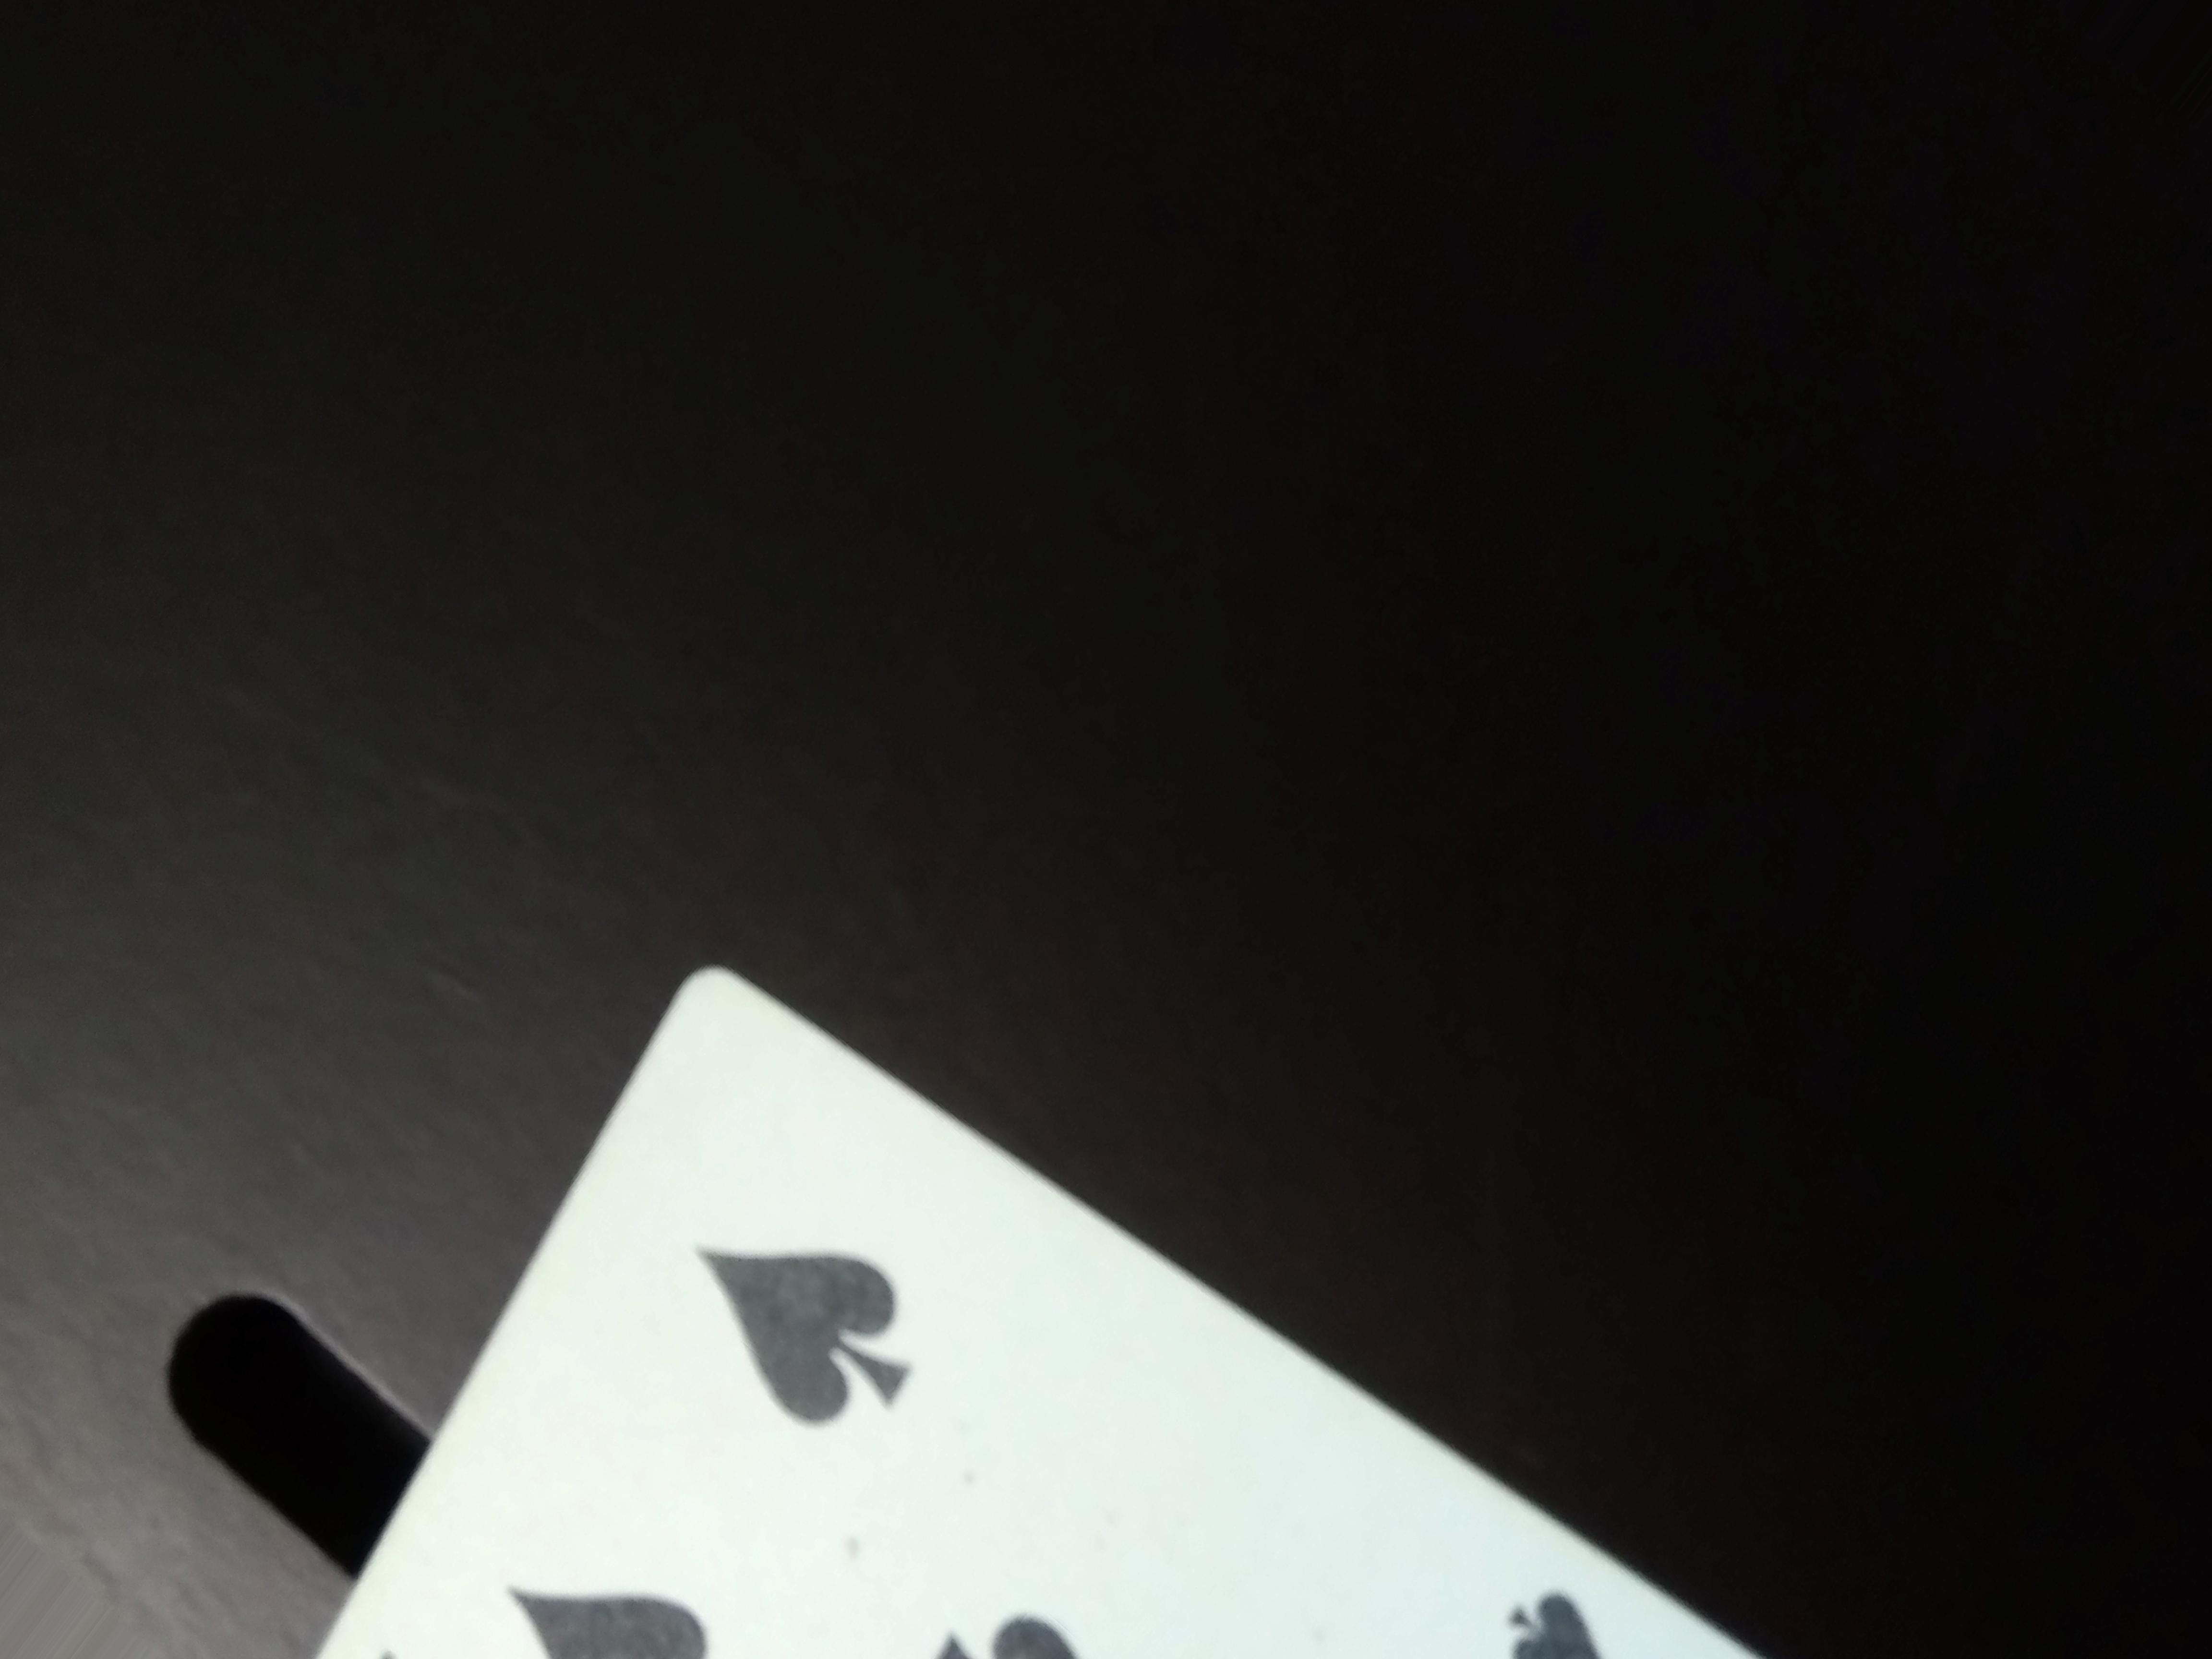5S: (338, 1629, 397, 1659)
